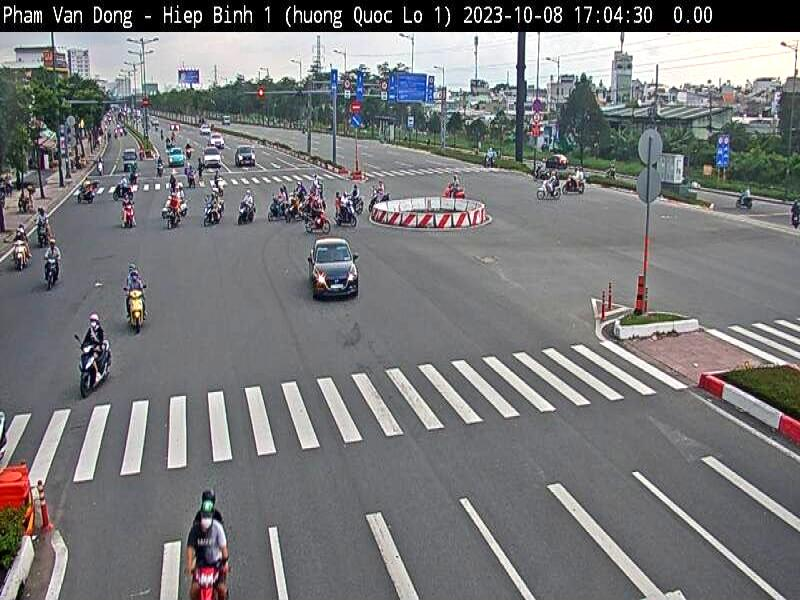car: (304, 222, 366, 319), (231, 130, 263, 177), (197, 142, 227, 170), (121, 142, 141, 174), (169, 144, 192, 169)
motorcycle: (154, 546, 264, 600), (60, 327, 126, 391), (110, 278, 158, 334), (30, 248, 66, 288)
